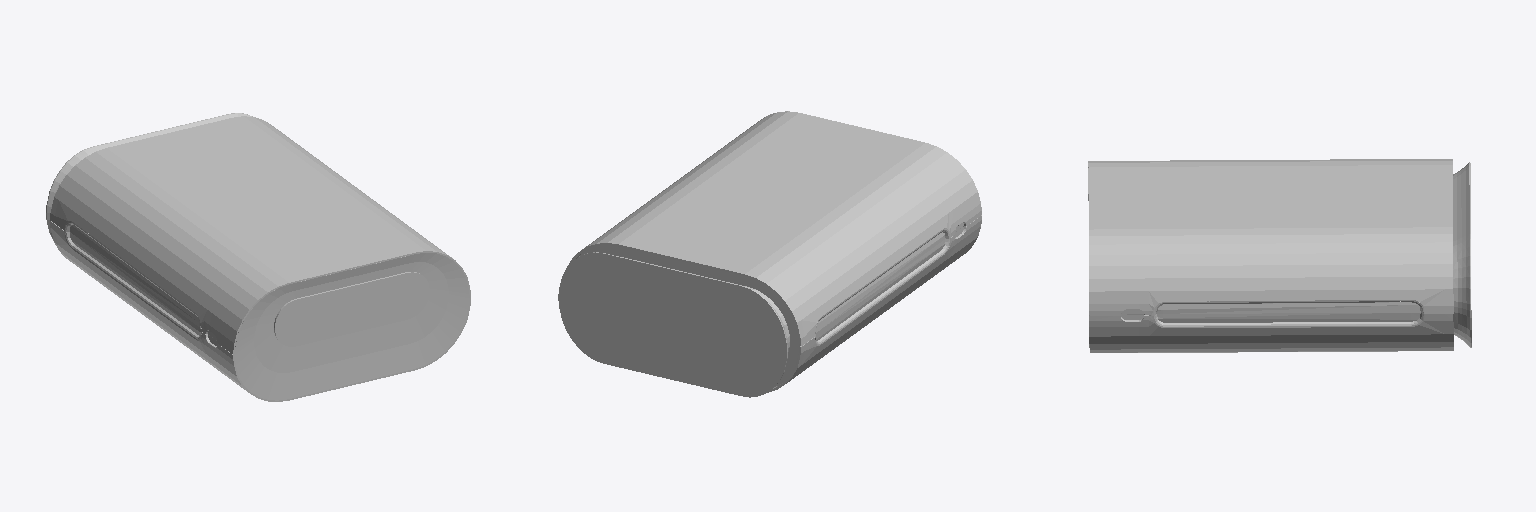
The model's file is powerbank.obj.
The picture shows the model from 3 angles: view 1: azimuth 30°, elevation 25°; view 2: azimuth 150°, elevation 25°; view 3: azimuth 270°, elevation 25°; orthographic projection.
Visible parts, largest first — view 1: lid1, polySurface75, polySurface8, HW5, polySurface107, HW6; view 2: lid1, polySurface107, polySurface8, HW5, HW6; view 3: lid1, polySurface8, HW1, polySurface107, HW2.
Boxes of the visible parts, x1,y1,x2,y2 form: lid1: [50, 116, 470, 354]; polySurface75: [235, 253, 469, 400]; polySurface8: [50, 221, 470, 401]; HW5: [70, 225, 200, 335]; polySurface107: [46, 113, 252, 240]; HW6: [64, 221, 201, 340]; lid1: [566, 111, 981, 345]; polySurface107: [558, 245, 799, 397]; polySurface8: [768, 215, 981, 392]; HW5: [816, 232, 945, 340]; HW6: [815, 228, 950, 345]; lid1: [1088, 159, 1453, 315]; polySurface8: [1089, 314, 1453, 352]; HW1: [1149, 302, 1420, 322]; polySurface107: [1453, 162, 1471, 347]; HW2: [1152, 300, 1424, 327].
Size of the model in its own units: 9.7 by 4.67 by 13.45.